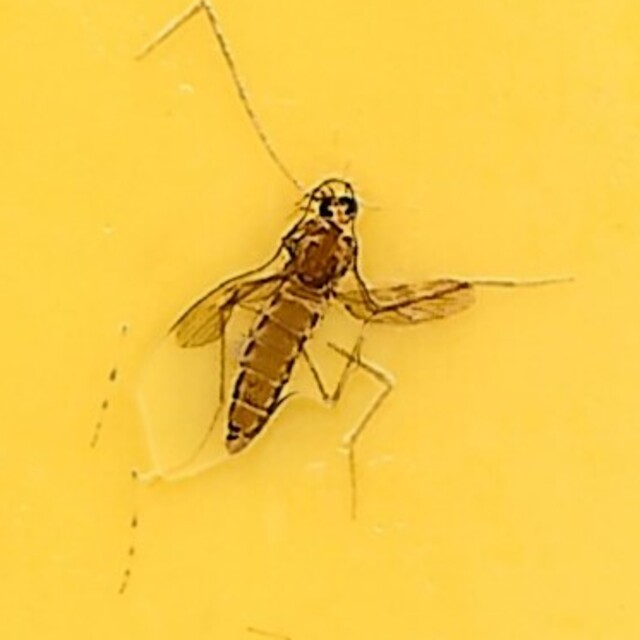Nematocera: (172, 180, 468, 460)
